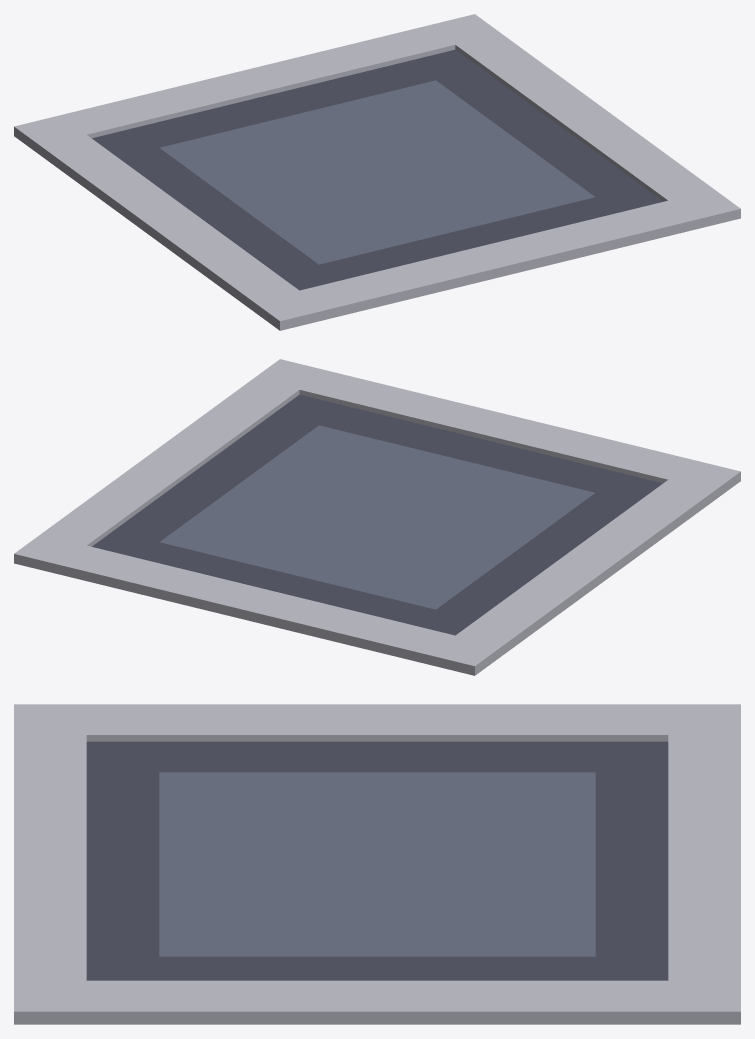
File: Road Square.glb
3 views of the same model, one above another, from view 1: azimuth 30°, elevation 25°; view 2: azimuth 150°, elevation 25°; view 3: azimuth 270°, elevation 25° (orthographic). The views are drawn at different scales.
Visible parts, largest first — view 1: road_square; view 2: road_square; view 3: road_square.
Part boxes in pixels (left/top/right/bottom): road_square: left=14, top=14, right=740, bottom=330; road_square: left=14, top=359, right=740, bottom=675; road_square: left=14, top=704, right=740, bottom=1024.
Bounding box in the file's own units: 1 × 0.02 × 1.
